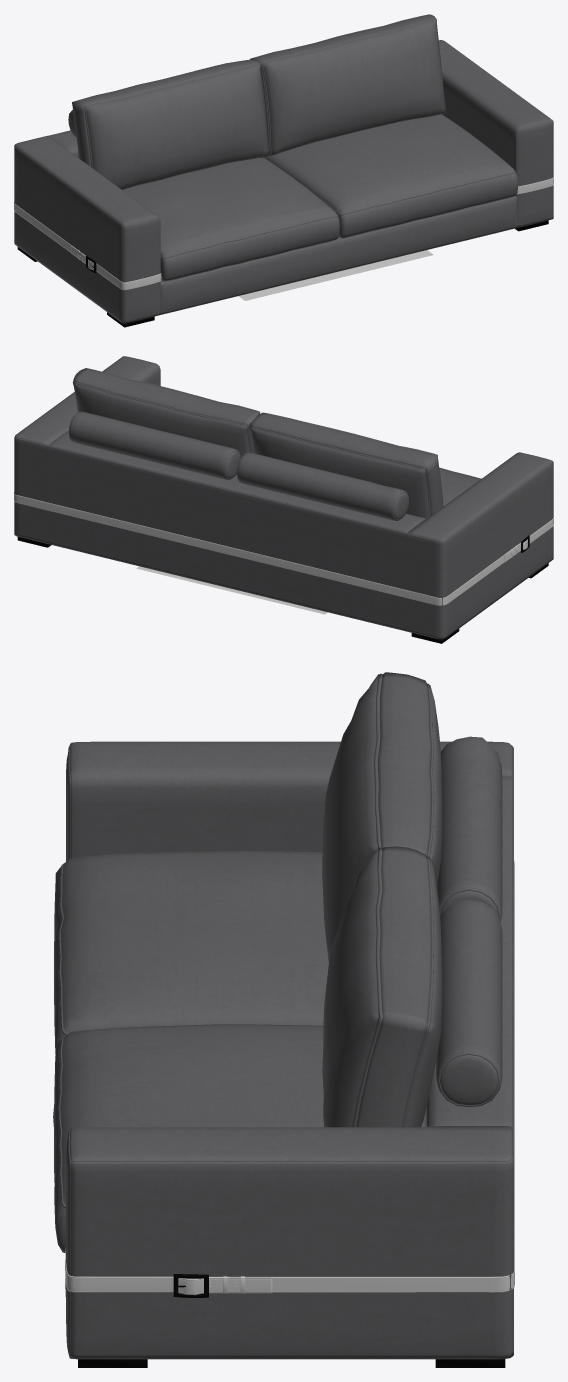
Rendered from sofablend4.glb.
3 views of the same model, one above another, from view 1: azimuth 30°, elevation 25°; view 2: azimuth 150°, elevation 25°; view 3: azimuth 270°, elevation 25° (orthographic). The views are drawn at different scales.
Visible parts, largest first — view 1: Cube.004, Cube.005, Cube.010, Cube.003, Plane.003, SquarePlane, Cube.009; view 2: Cube.004, Cylinder, Cube.010, Cube.003, Plane.003, Cube.005, SquarePlane, Cube.009; view 3: Cube.004, Cube.005, Cube.003, Cylinder, Cube.010, Plane.003, Cube.009.
Boxes of the visible parts, <box> form: Cube.004: <box>14,40,553,323</box>; Cube.005: <box>122,114,517,281</box>; Cube.010: <box>72,59,268,189</box>; Cube.003: <box>250,14,445,155</box>; Plane.003: <box>14,177,553,290</box>; SquarePlane: <box>238,250,433,300</box>; Cube.009: <box>17,220,548,327</box>; Cube.004: <box>14,356,553,639</box>; Cylinder: <box>68,411,409,520</box>; Cube.010: <box>249,412,443,518</box>; Cube.003: <box>72,368,260,457</box>; Plane.003: <box>14,492,553,605</box>; Cube.005: <box>439,467,481,506</box>; SquarePlane: <box>136,566,327,614</box>; Cube.009: <box>17,537,548,643</box>; Cube.004: <box>65,741,513,1359</box>; Cube.005: <box>53,851,426,1252</box>; Cube.003: <box>322,846,442,1127</box>; Cylinder: <box>436,736,502,1107</box>; Cube.010: <box>322,672,442,962</box>; Plane.003: <box>65,860,514,1295</box>; Cube.009: <box>78,1359,505,1367</box>.
Size of the model in its own units: 2.32 by 0.8021 by 1.06.
Materials: 4 (1 with a texture image).
